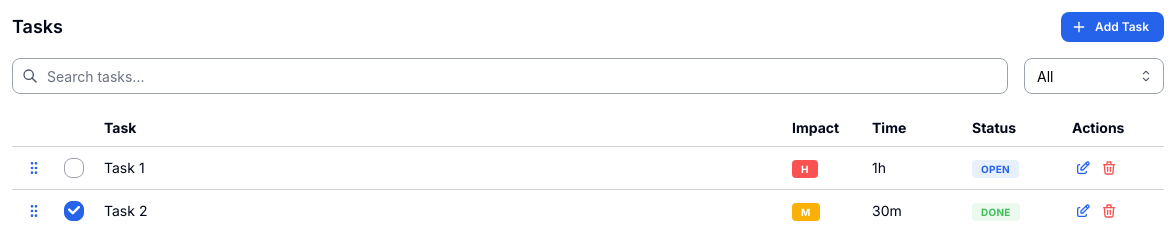
Test: TasksTable › Empty States › shows message when no tasks match filters
In the field with placeholder "Search tasks...": (510, 76) [12,58,1008,94], type "nonexistent task"
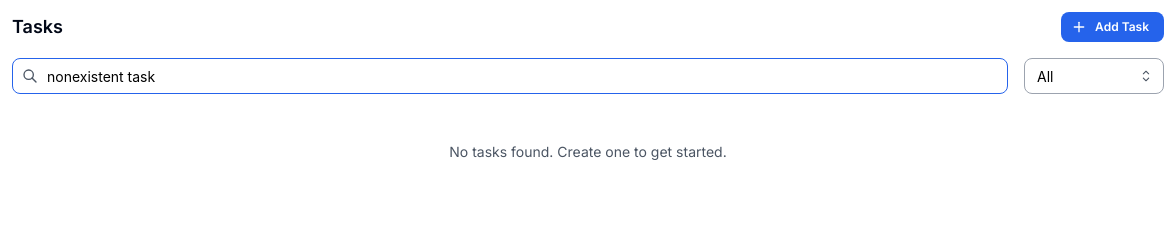
Expected: the text "No tasks found. Create one to get started." is shown, [449,143,727,160]
